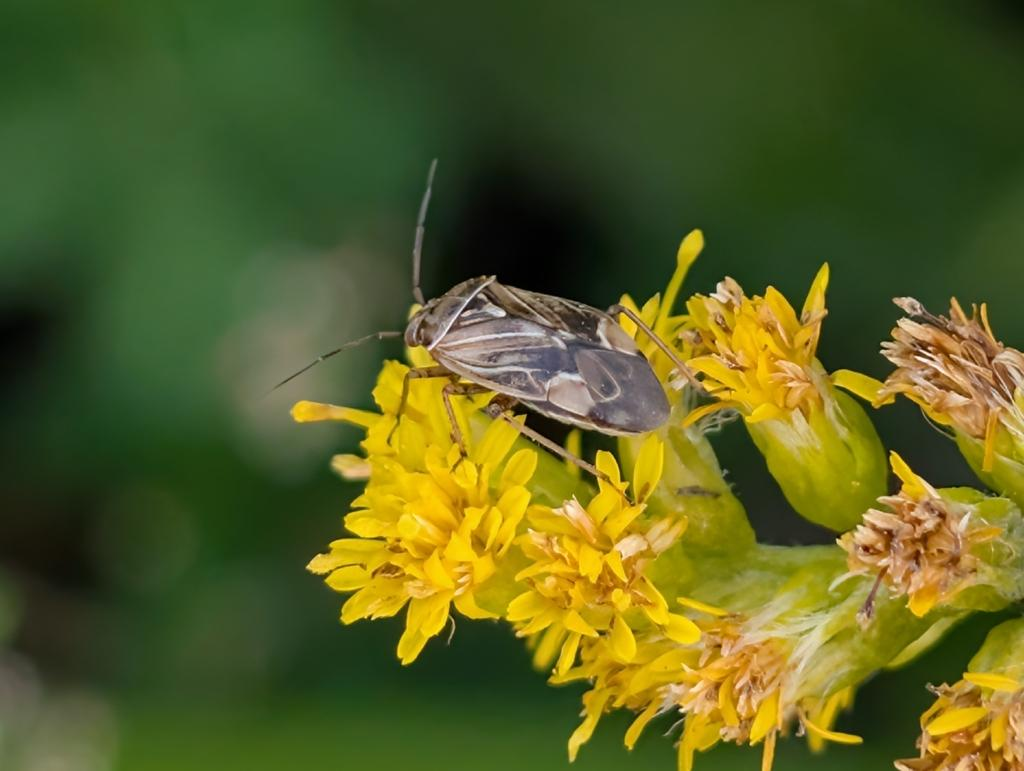plant_bugs: (219, 108, 761, 578)
